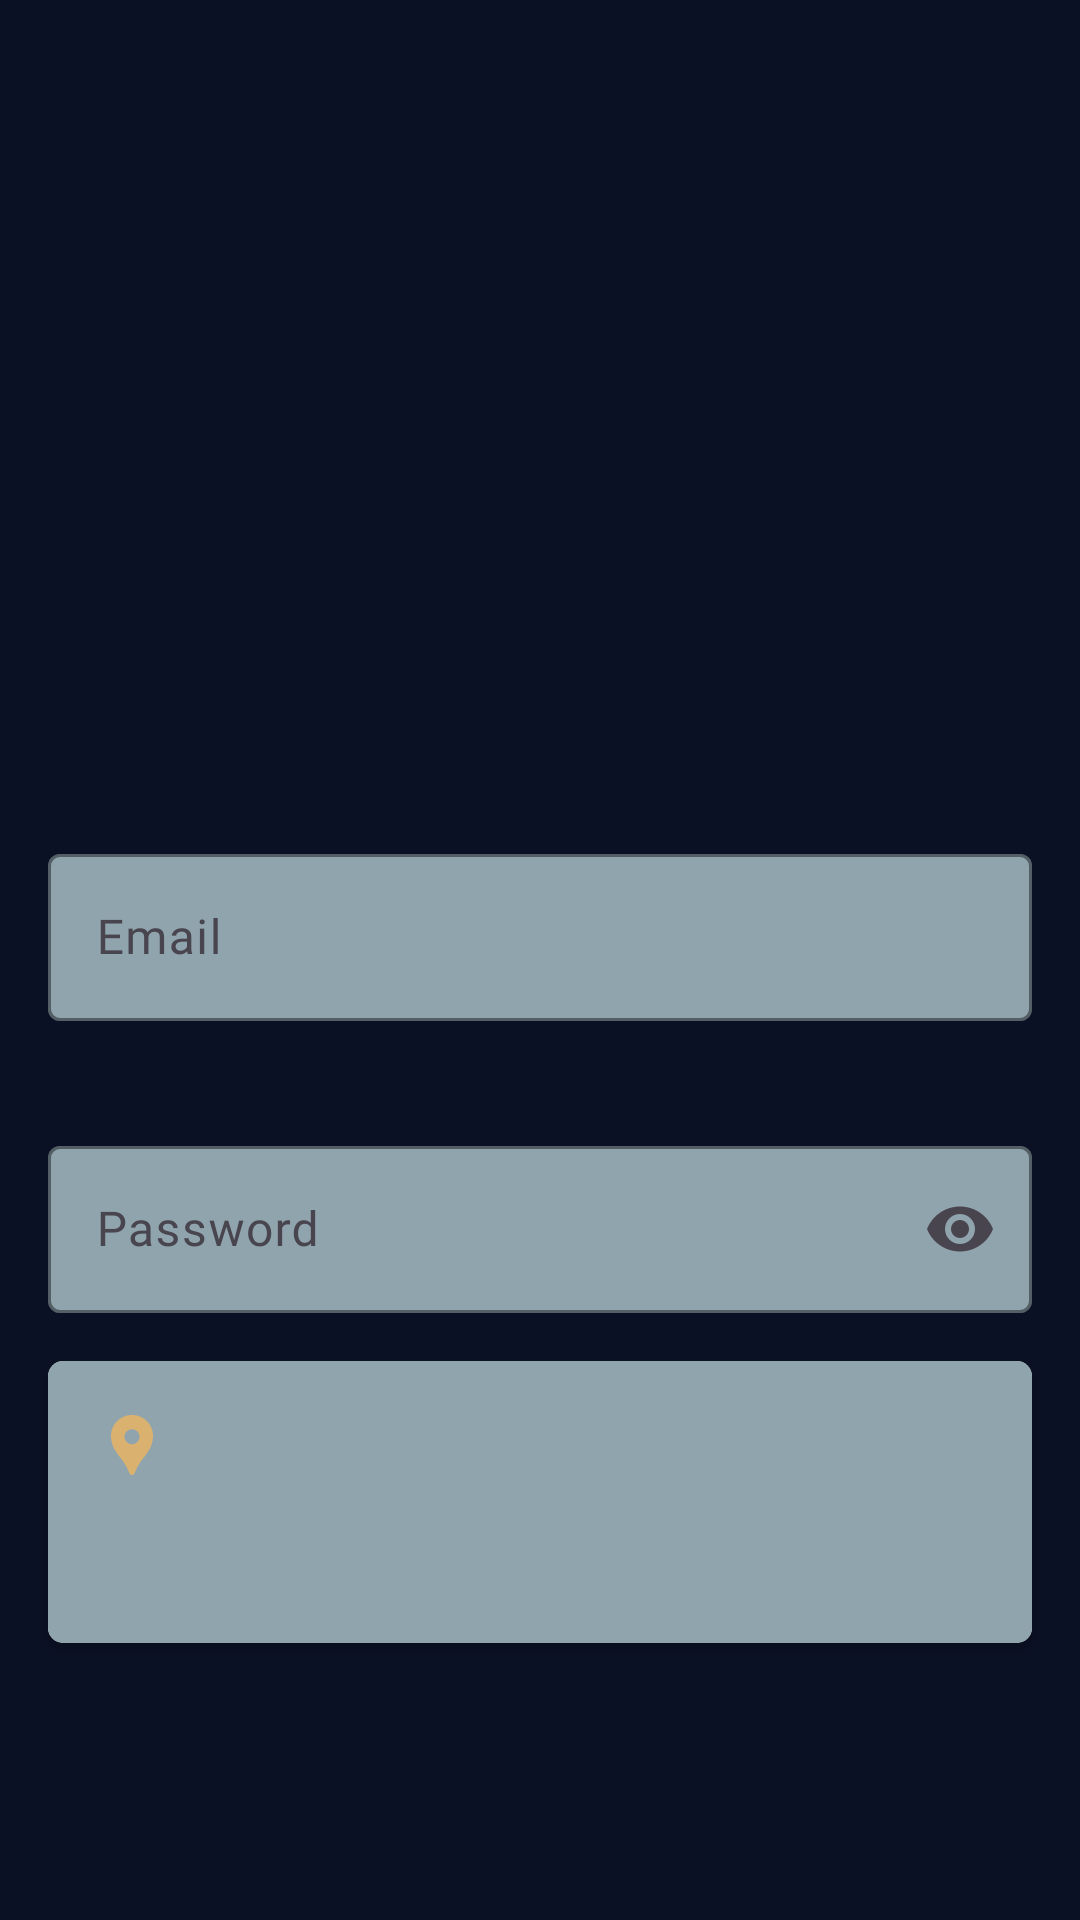

Named icons in this screenshot (1080x1920) and their centers, [x,y]:
location: [132,1445]
